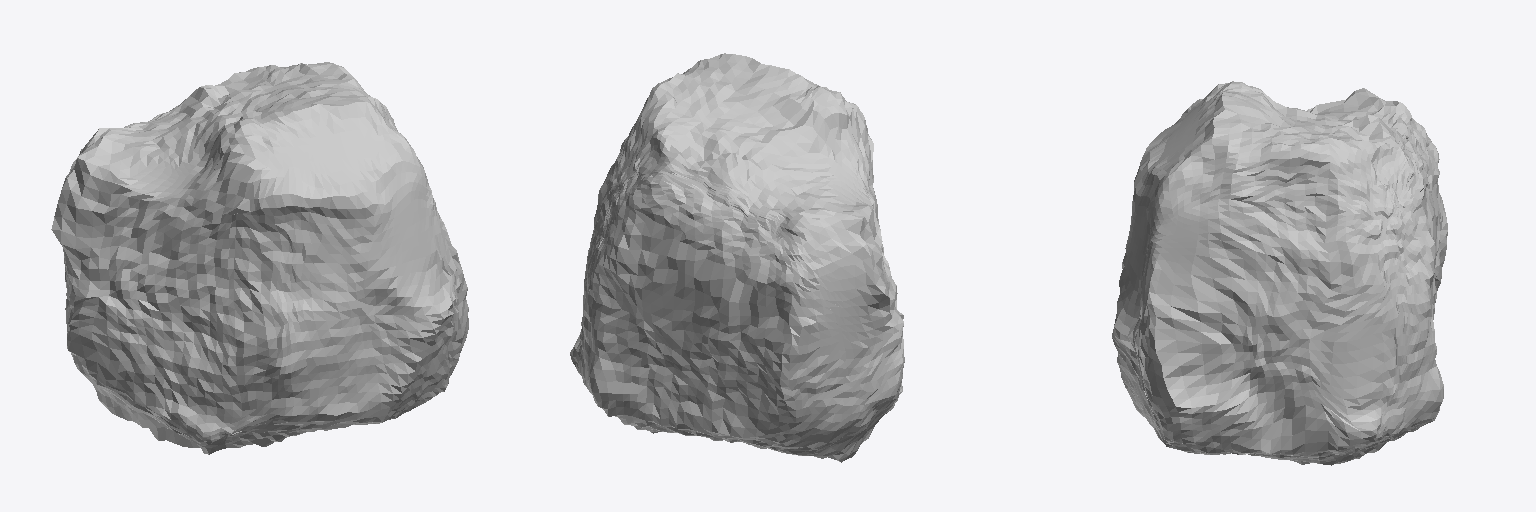
File: rocks.obj
3 views of the same model, side by side, from view 1: azimuth 30°, elevation 25°; view 2: azimuth 150°, elevation 25°; view 3: azimuth 270°, elevation 25° (orthographic).
Parts seen in each view (by area): view 1: cube_4; view 2: cube_4; view 3: cube_4.
Part boxes in pixels (bbox=[...]): cube_4: bbox=[51, 62, 468, 454]; cube_4: bbox=[570, 53, 904, 462]; cube_4: bbox=[1112, 81, 1447, 465].
Size of the model in its own units: 184 by 179 by 166.